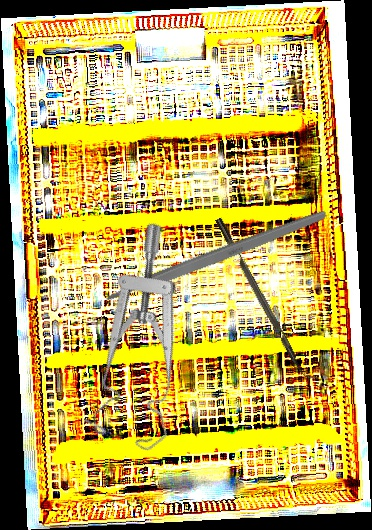Chopper: (215, 213, 316, 385)
Scalpel Handle: (103, 206, 330, 306)
Speculum: (42, 218, 258, 465)
